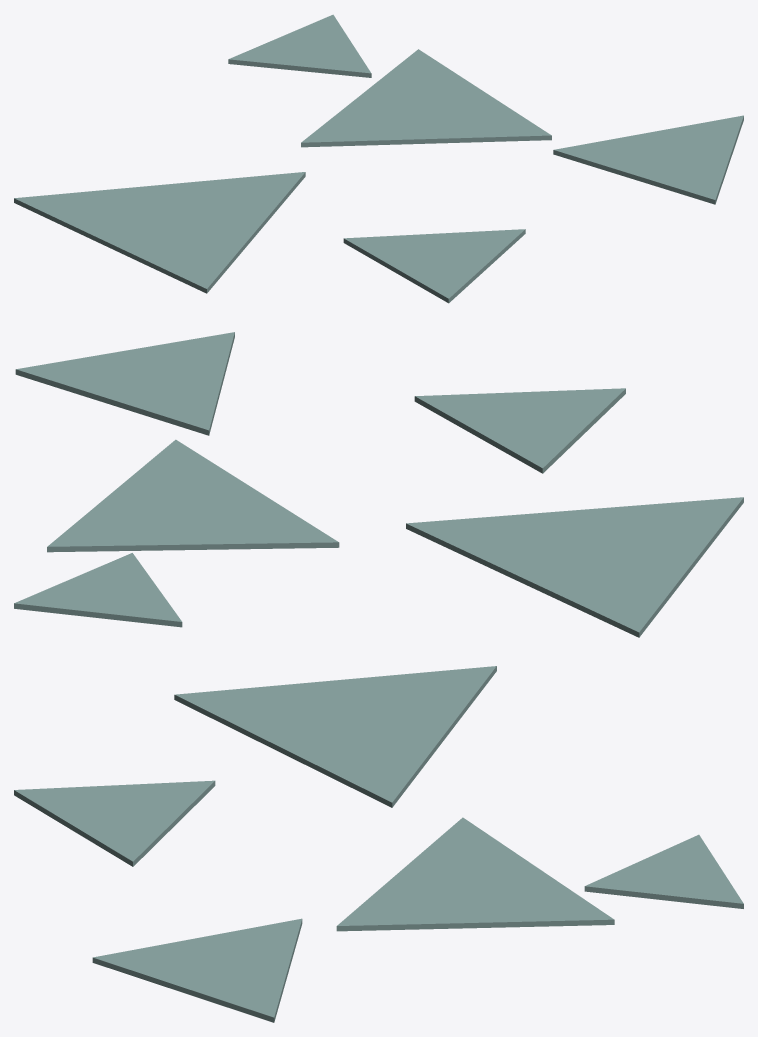
Rendered from rpg-mansion-glass-shards-01.glb.
3 renders of one model, top to bottom at view 1: azimuth 30°, elevation 25°; view 2: azimuth 150°, elevation 25°; view 3: azimuth 270°, elevation 25°, orthographic. The views are drawn at different scales.
Visible parts, largest first — view 1: rpg-mansion-glass-shards-01; view 2: rpg-mansion-glass-shards-01; view 3: rpg-mansion-glass-shards-01.
Boxes of the visible parts, x1,y1,x2,y2 form: rpg-mansion-glass-shards-01: (14,14,743,303); rpg-mansion-glass-shards-01: (14,332,743,637); rpg-mansion-glass-shards-01: (14,666,743,1022).
Size of the model in its own units: 0.57 by 0.004 by 0.5.
